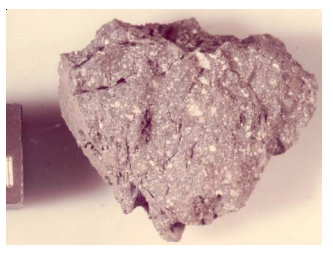Breccia: (56, 12, 316, 197), (91, 6, 282, 233)
